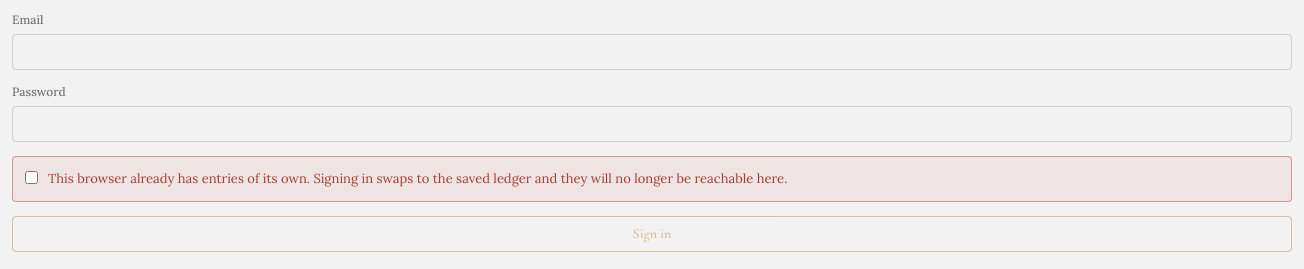
Scenario: SignInForm on a browser that already holds entries › enables sign-in once the box is ticked
This screenshot has width=1304, height=269.
Click the checkbox: (32, 178) [25, 171, 38, 184]
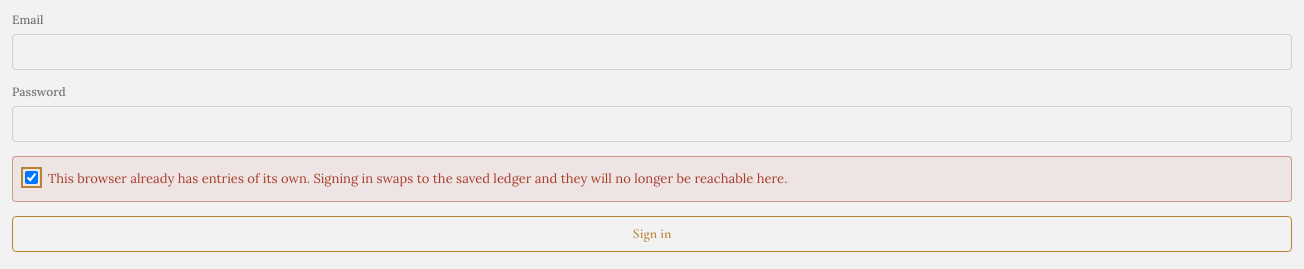
Expected: the button "Sign in" is enabled, [12, 216, 1292, 252]
